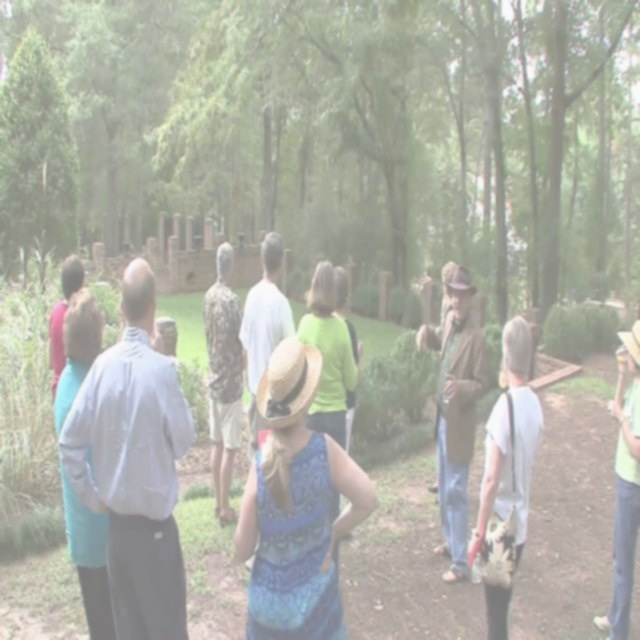pessoa: (51, 246, 200, 640), (222, 332, 382, 640), (464, 312, 546, 640), (410, 262, 490, 590), (53, 286, 119, 640), (590, 311, 640, 640), (424, 261, 480, 501), (240, 229, 298, 456), (294, 260, 360, 454), (201, 239, 245, 528), (48, 254, 92, 411), (330, 266, 364, 456)
